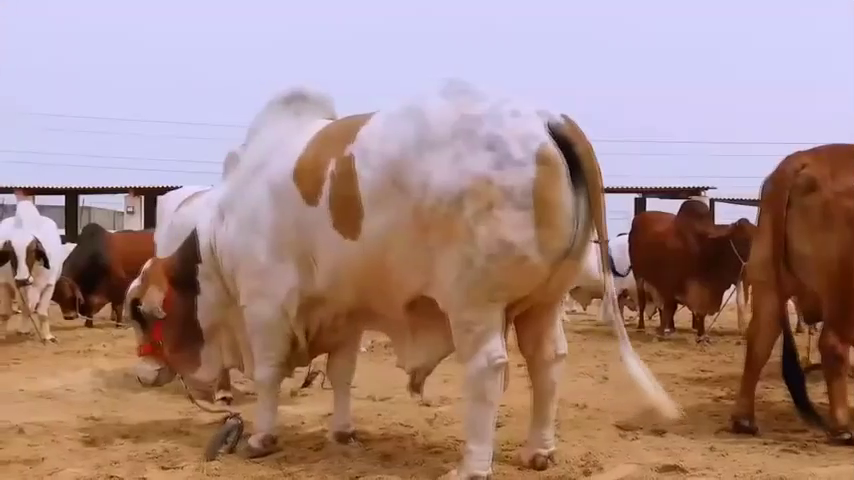bo: (116, 79, 702, 479), (714, 116, 854, 458), (624, 186, 759, 337), (38, 189, 175, 334), (1, 184, 67, 354), (587, 223, 644, 321)
